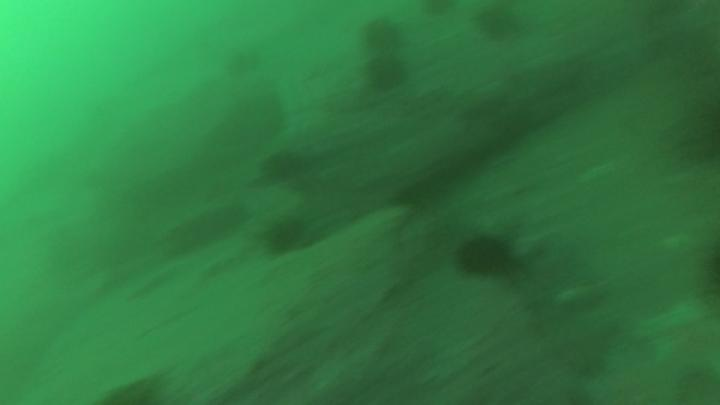echinus: (453, 224, 519, 281), (360, 49, 413, 95), (254, 217, 308, 256), (474, 4, 521, 40), (361, 15, 410, 47)
